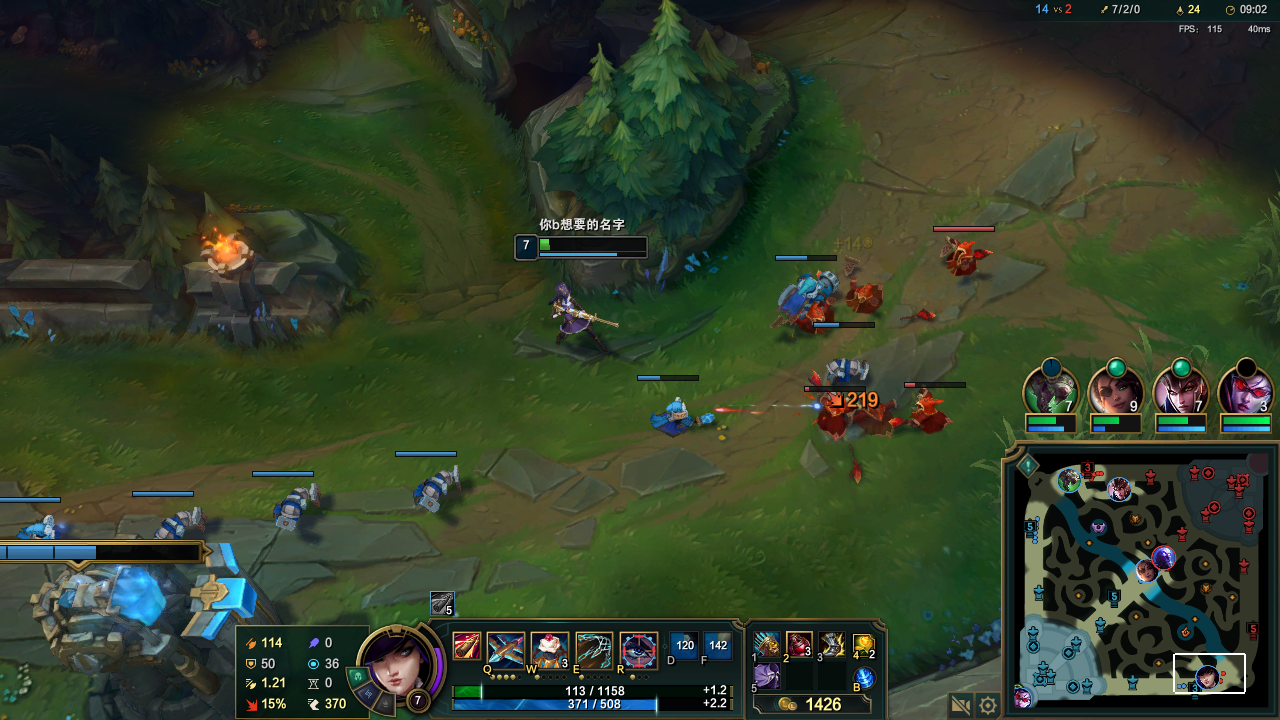DFXB: (808, 396, 858, 439), (943, 235, 989, 277), (906, 396, 944, 428)
WFXB: (783, 271, 845, 329), (656, 398, 708, 436), (416, 468, 461, 504), (821, 355, 871, 381), (278, 491, 322, 518)
